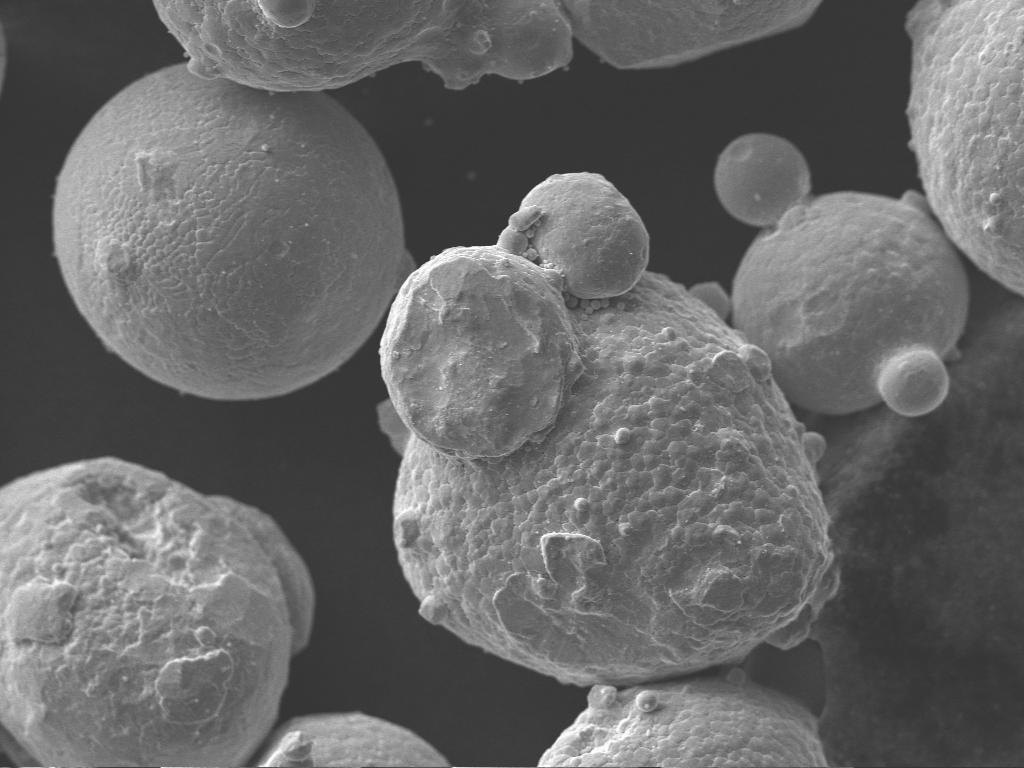Powder: (380, 174, 836, 685), (54, 64, 404, 399), (0, 458, 310, 766), (714, 134, 968, 416), (154, 0, 572, 92), (906, 0, 1024, 295), (540, 676, 826, 766), (562, 1, 820, 68), (256, 712, 450, 766)
